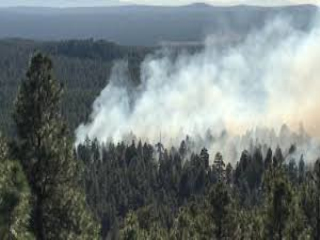smoke: (75, 54, 311, 157)
